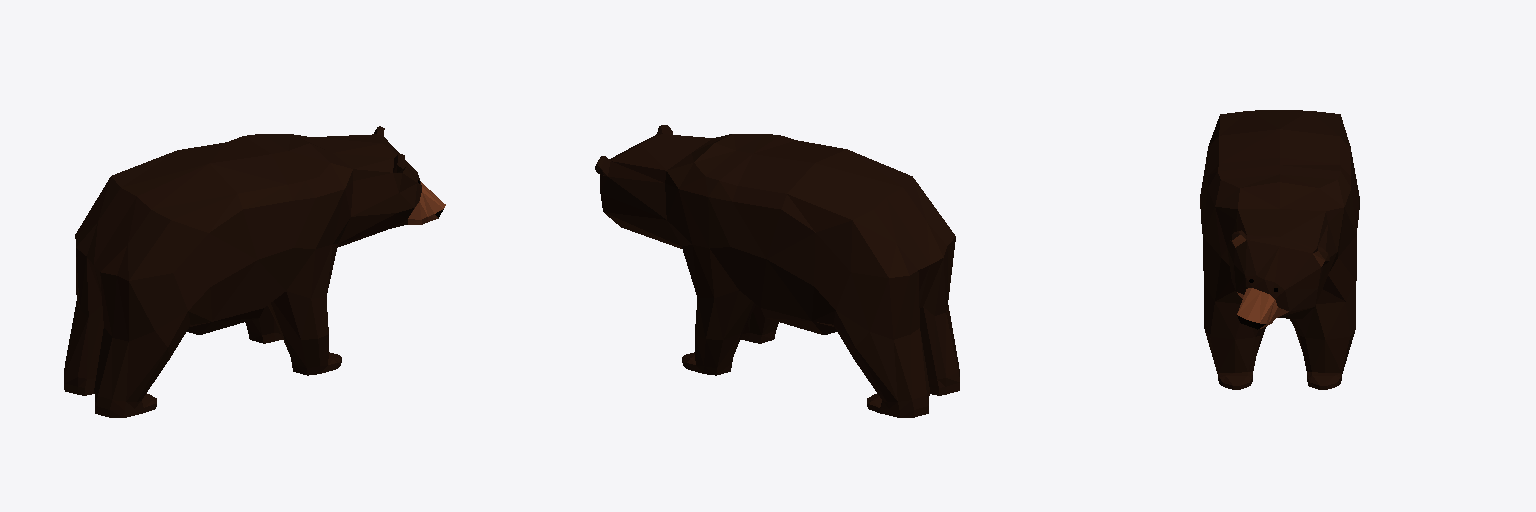
Rendered from bear.obj.
The picture shows the model from 3 angles: view 1: azimuth 30°, elevation 25°; view 2: azimuth 150°, elevation 25°; view 3: azimuth 270°, elevation 25°; orthographic projection.
Parts seen in each view (by area): view 1: Bear_Mesh_Plane; view 2: Bear_Mesh_Plane; view 3: Bear_Mesh_Plane.
Part boxes in pixels (bbox=[...]): Bear_Mesh_Plane: bbox=[64, 126, 445, 417]; Bear_Mesh_Plane: bbox=[595, 125, 959, 417]; Bear_Mesh_Plane: bbox=[1200, 110, 1359, 389].
Bounding box in the file's own units: 4.38 × 2.47 × 1.73.